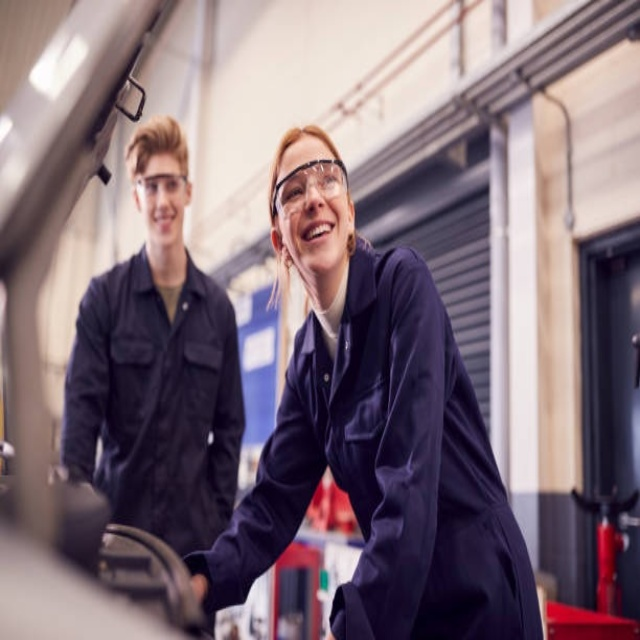Gafas: (271, 157, 349, 219), (135, 174, 189, 203)
Sin_mascara: (295, 220, 338, 262), (151, 207, 177, 238)
